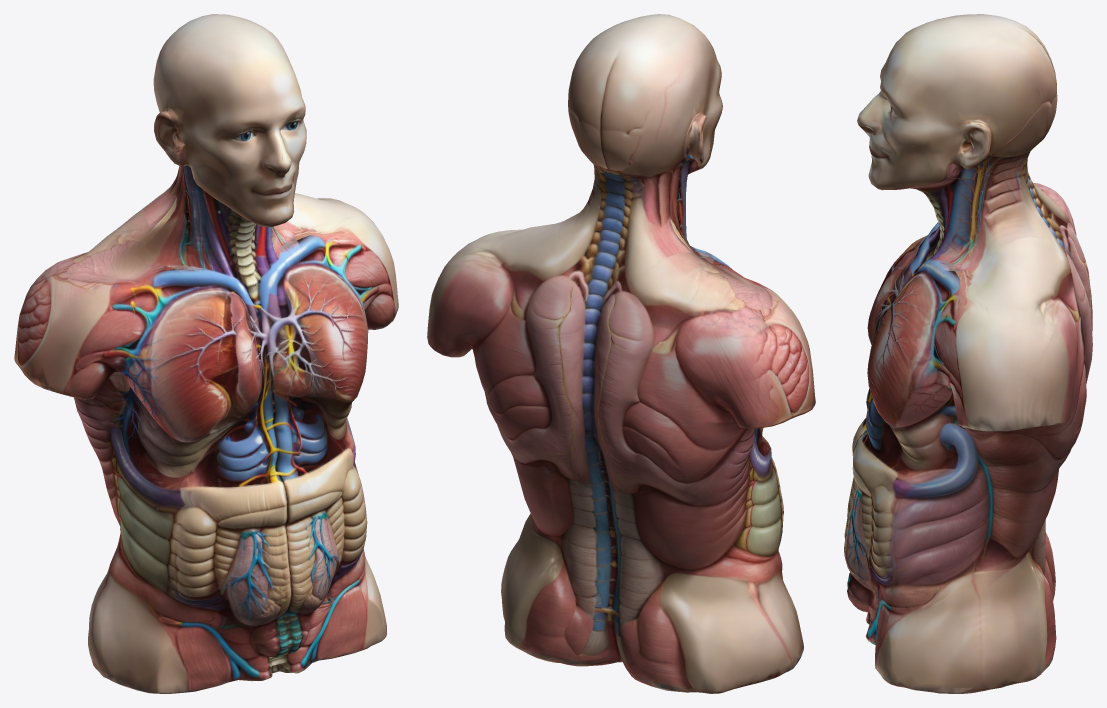
File: a_fully__anatomy_stomach_lungs_heart..glb
3 views of the same model, side by side, from view 1: azimuth 30°, elevation 25°; view 2: azimuth 150°, elevation 25°; view 3: azimuth 270°, elevation 25° (orthographic).
Parts seen in each view (by area): view 1: Object_4; view 2: Object_4; view 3: Object_4.
Part boxes in pixels (box(x1,y1,x2,y2)): Object_4: box(14, 14, 398, 693); Object_4: box(427, 14, 815, 693); Object_4: box(844, 14, 1092, 693).
Bounding box in the file's own units: 1.24 × 2 × 0.7393.
1 material, 1 textured.
